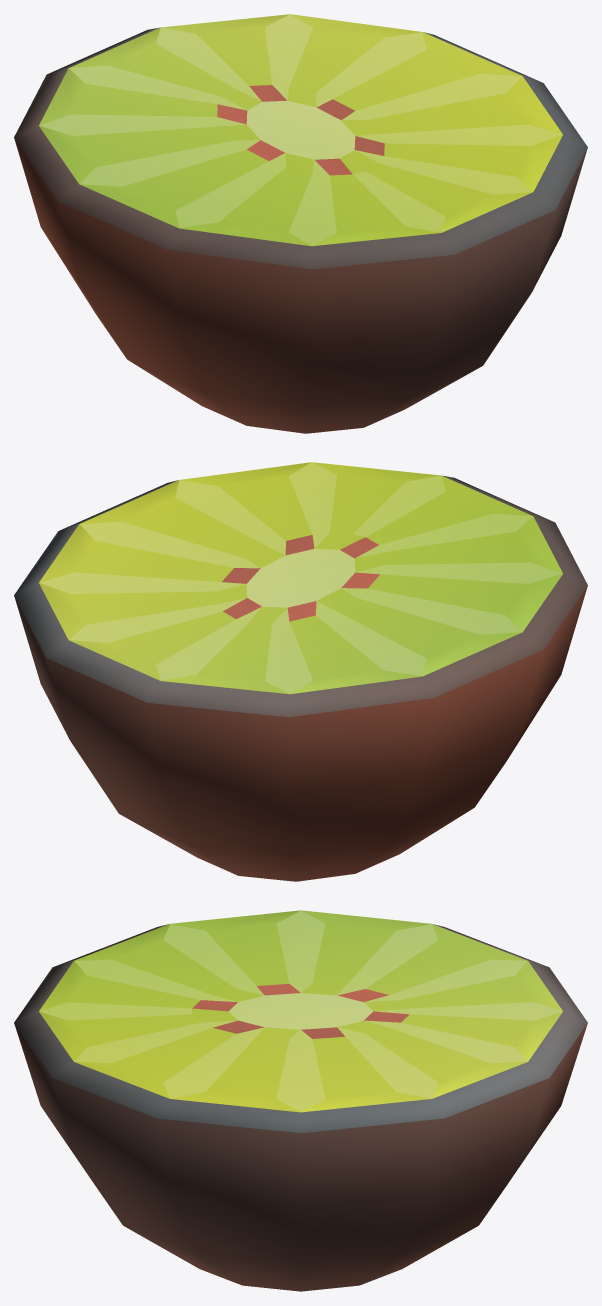
Rendered from kiwi_002.fbx.
The picture shows the model from 3 angles, top to bottom: view 1: azimuth 30°, elevation 25°; view 2: azimuth 150°, elevation 25°; view 3: azimuth 270°, elevation 25°; orthographic projection. The views are drawn at different scales.
Visible parts, largest first — view 1: kiwi_002; view 2: kiwi_002; view 3: kiwi_002.
Part boxes in pixels (x1,y1,x2,y2): kiwi_002: (14,14,587,433); kiwi_002: (14,462,587,881); kiwi_002: (14,910,587,1291).
Bounding box in the file's own units: 5.68 × 6.23 × 3.1.
